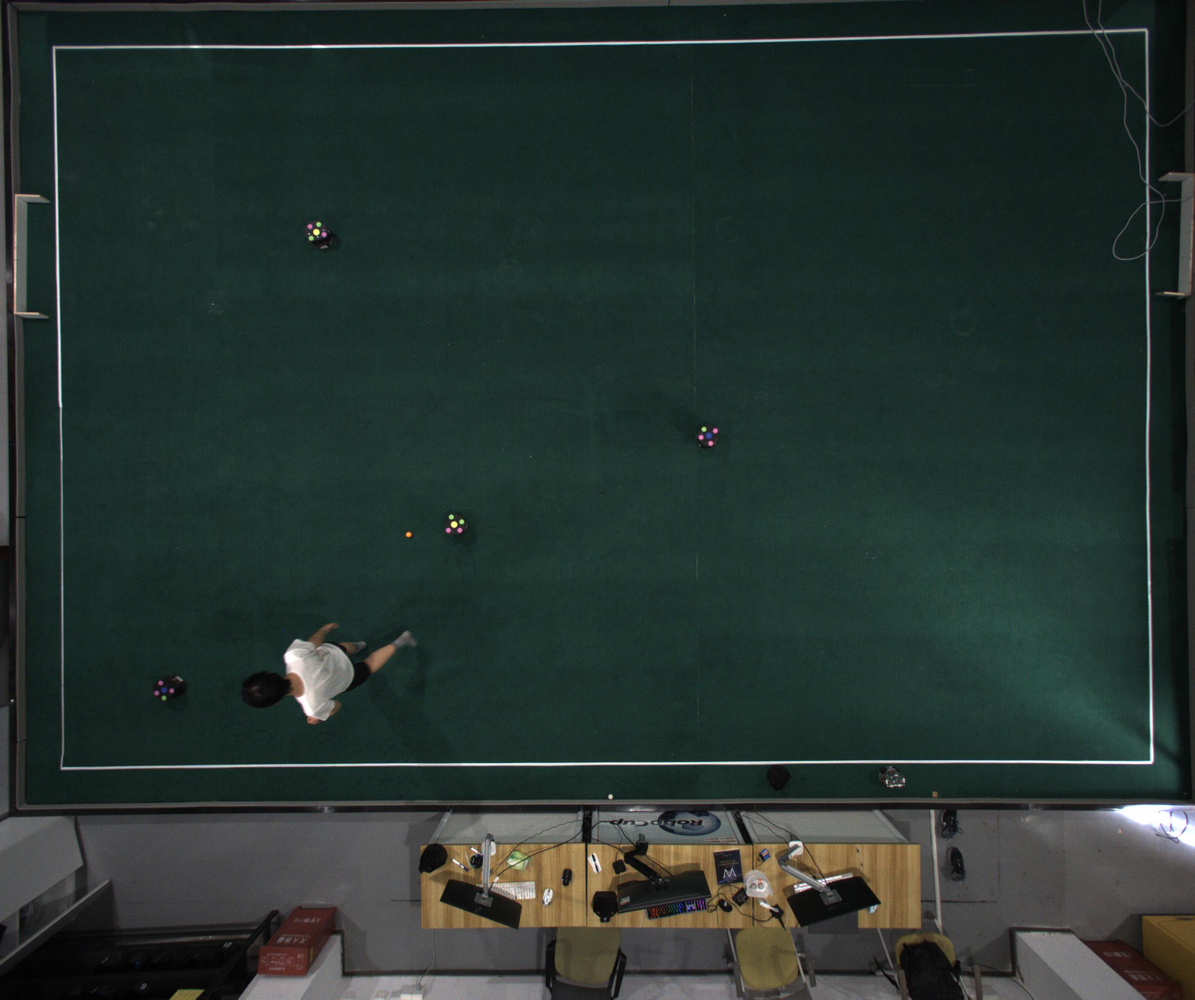ball: (405, 531, 413, 539)
blue_bot: (152, 678, 177, 701), (697, 424, 720, 447)
yellow_bot: (304, 220, 329, 245), (445, 512, 465, 536)
